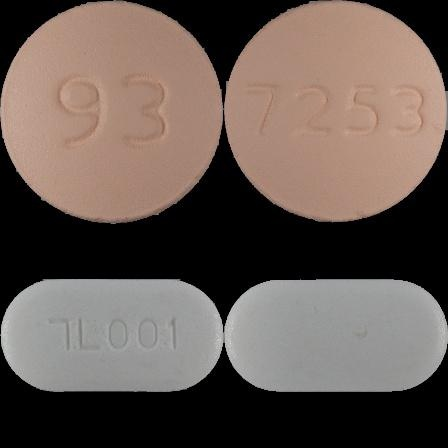68788-6776: (0, 0, 224, 224)
